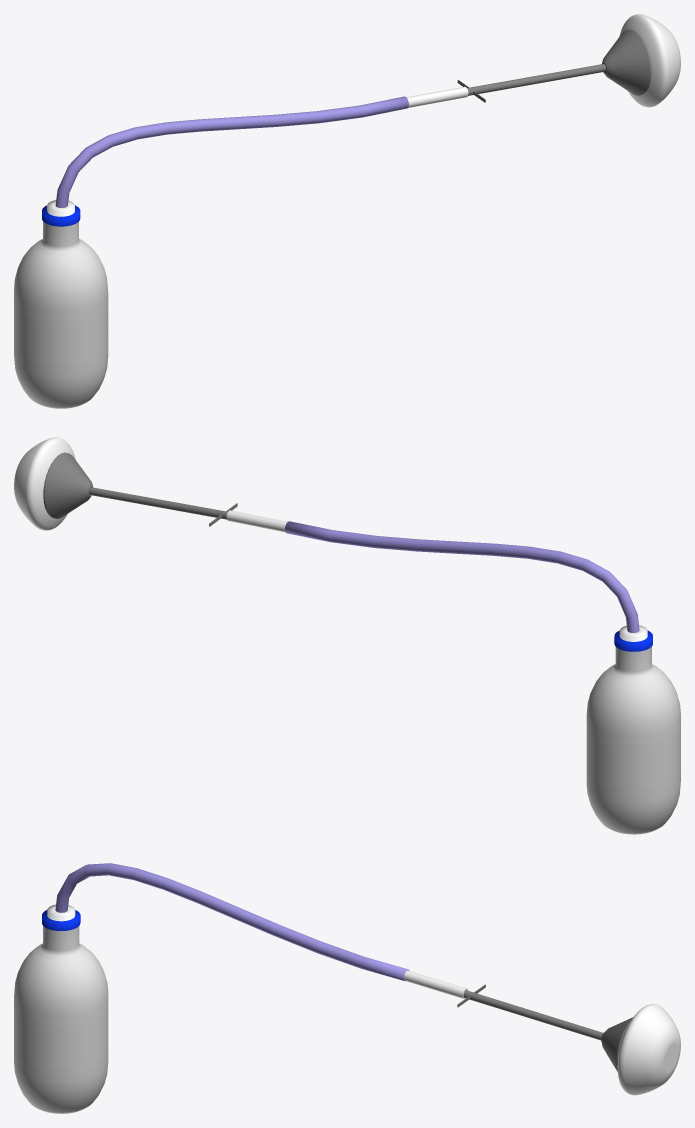
Rendered from new suck-unjoinv3.fbx.
The picture shows the model from 3 angles, top to bottom: view 1: azimuth 30°, elevation 25°; view 2: azimuth 150°, elevation 25°; view 3: azimuth 330°, elevation 25°; orthographic projection.
Visible parts, largest first — view 1: TANK, head, tube, ABSORBER, kifuniko; view 2: TANK, head, tube, ABSORBER, kifuniko; view 3: TANK, head, tube, ABSORBER, kifuniko.
Boxes of the visible parts, x1,y1,x2,y2 form: TANK: [14, 221, 108, 408]; head: [602, 14, 680, 107]; tube: [55, 96, 408, 207]; ABSORBER: [406, 64, 605, 107]; kifuniko: [42, 200, 80, 226]; TANK: [586, 646, 680, 834]; head: [14, 437, 93, 530]; tube: [285, 521, 639, 632]; ABSORBER: [89, 487, 287, 532]; kifuniko: [614, 625, 652, 651]; TANK: [14, 926, 108, 1113]; head: [601, 1004, 680, 1095]; tube: [55, 863, 409, 981]; ABSORBER: [404, 970, 603, 1040]; kifuniko: [42, 904, 80, 930].
Size of the model in its own units: 204 by 75.98 by 25.62.
